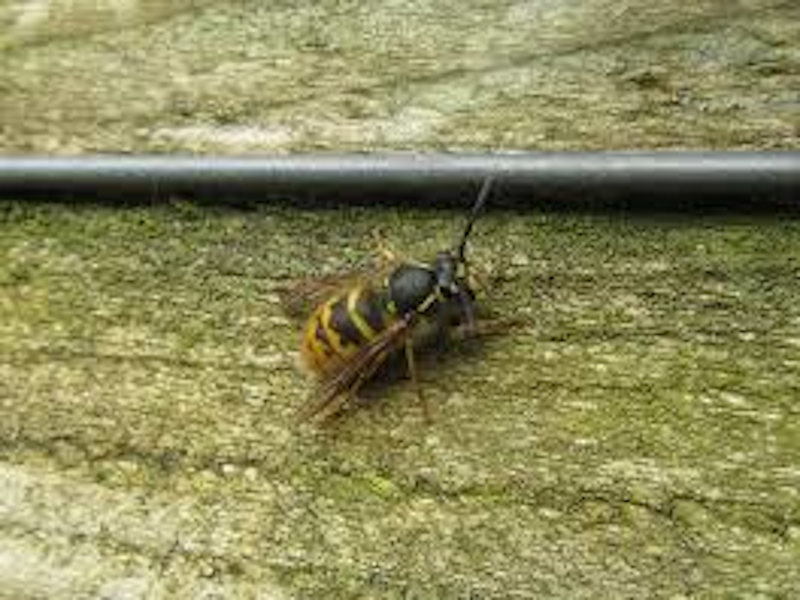chax: (269, 215, 539, 471)
